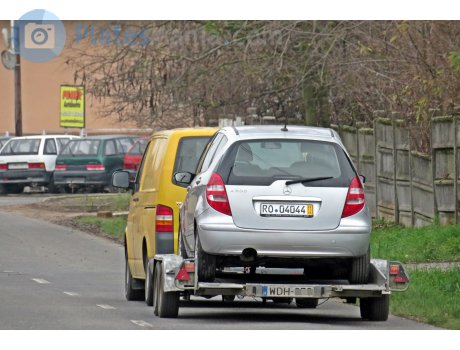License Plates: (258, 205, 311, 212)
